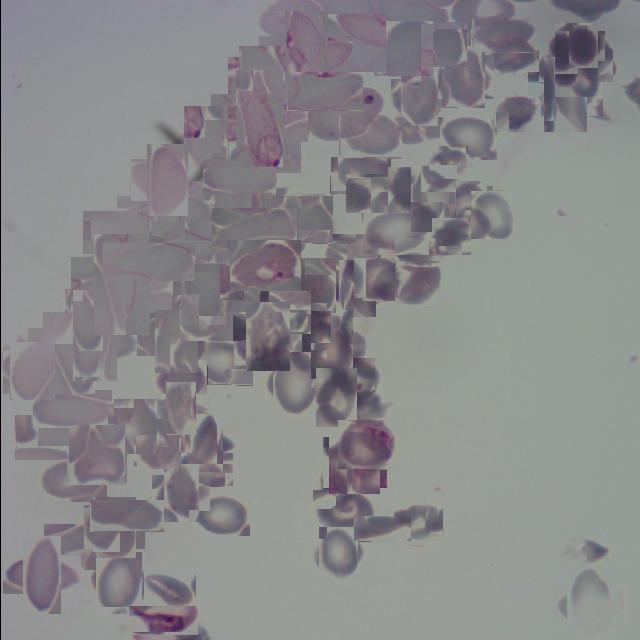leukocyte: (81, 246, 160, 324), (304, 14, 385, 72), (34, 320, 102, 388), (60, 302, 128, 370), (134, 179, 198, 243), (559, 573, 622, 635), (216, 173, 278, 236), (171, 255, 233, 317), (145, 304, 206, 365), (301, 318, 361, 379), (212, 208, 298, 250), (174, 114, 234, 174), (148, 220, 229, 264), (232, 51, 292, 110), (535, 64, 594, 124), (546, 30, 605, 90), (102, 243, 194, 281), (11, 546, 70, 604), (325, 434, 383, 492), (67, 426, 125, 484), (372, 20, 432, 76), (14, 415, 88, 460), (64, 289, 144, 330), (43, 524, 114, 570), (238, 308, 295, 365), (266, 357, 323, 413), (138, 152, 195, 208), (82, 211, 155, 254), (404, 171, 460, 227), (186, 340, 252, 386), (361, 210, 428, 255), (32, 390, 111, 428), (91, 556, 146, 610), (286, 72, 362, 111), (311, 490, 375, 536), (40, 458, 106, 502), (228, 132, 300, 172), (338, 114, 401, 158), (436, 51, 488, 104), (88, 501, 140, 554), (5, 345, 58, 397), (201, 159, 275, 196), (284, 260, 336, 312), (440, 115, 498, 160), (344, 174, 408, 214), (310, 372, 360, 422), (110, 401, 160, 451), (179, 301, 241, 341), (191, 494, 249, 536), (352, 258, 407, 302), (283, 194, 332, 243), (89, 500, 163, 532), (329, 156, 390, 194), (333, 264, 381, 312), (134, 420, 182, 468), (470, 191, 518, 239), (472, 16, 534, 53), (258, 290, 310, 334), (394, 75, 442, 122), (314, 530, 361, 578), (156, 469, 204, 516), (109, 274, 171, 310), (443, 183, 489, 230), (154, 359, 206, 400), (182, 420, 228, 466), (394, 262, 440, 307), (392, 505, 442, 546), (175, 453, 232, 487), (217, 266, 261, 310), (330, 358, 374, 401), (143, 573, 195, 609), (273, 311, 330, 343), (426, 24, 468, 66), (386, 169, 428, 211), (160, 388, 202, 430), (326, 234, 380, 266), (334, 392, 386, 424), (490, 37, 534, 74), (494, 97, 540, 132), (430, 218, 470, 256), (352, 516, 410, 542), (427, 146, 467, 180), (564, 27, 600, 64), (394, 238, 435, 267)
red blood cell: (271, 23, 340, 92), (228, 240, 300, 292)
schizont: (222, 82, 295, 154), (336, 420, 394, 470), (127, 606, 197, 636)
